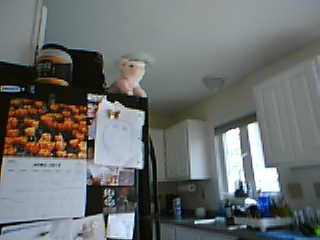piggy: (107, 58, 149, 98)
